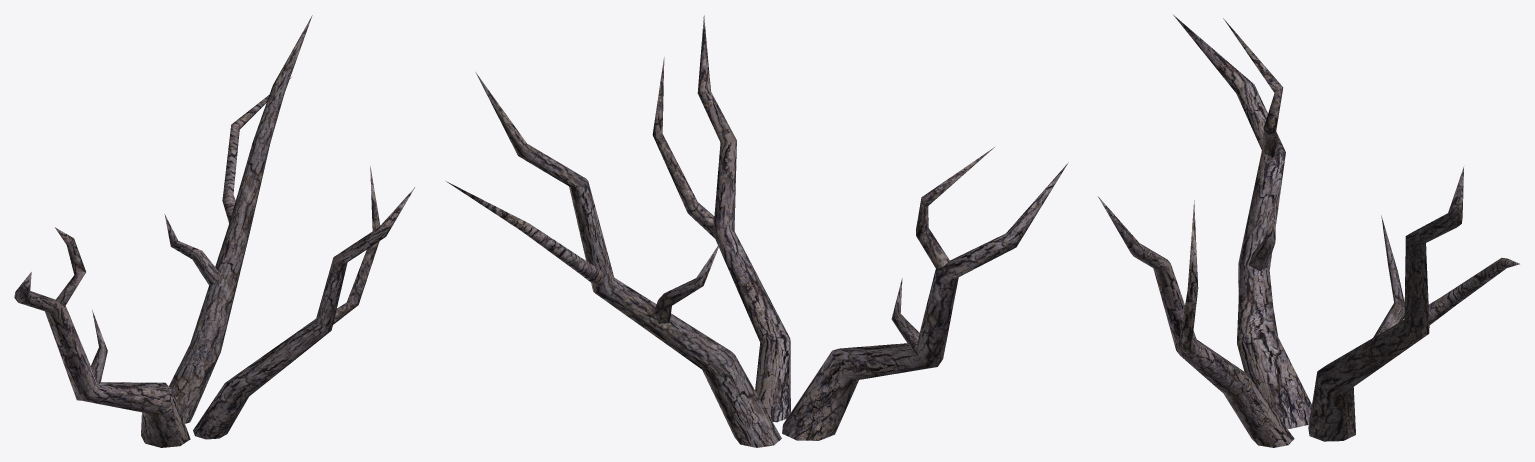
The model's file is dead_bush.fbx.
3 views of the same model, side by side, from view 1: azimuth 30°, elevation 25°; view 2: azimuth 150°, elevation 25°; view 3: azimuth 270°, elevation 25° (orthographic). The views are drawn at different scales.
Parts seen in each view (by area): view 1: dead_bush; view 2: dead_bush; view 3: dead_bush.
Part boxes in pixels (x1,y1,x2,y2): dead_bush: (14,15,414,447); dead_bush: (446,15,1068,447); dead_bush: (1098,15,1519,447).
Bounding box in the file's own units: 3.77 × 2.8 × 2.82.
